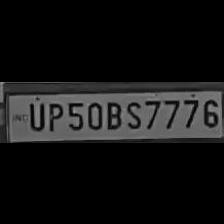0: (84, 97, 104, 128)
5: (64, 98, 84, 130)
6: (198, 94, 220, 128)
7: (179, 94, 197, 128), (142, 97, 160, 129), (160, 96, 178, 128)
B: (104, 97, 122, 128)
P: (44, 98, 62, 132)
S: (123, 97, 143, 129)
U: (23, 99, 44, 131)
